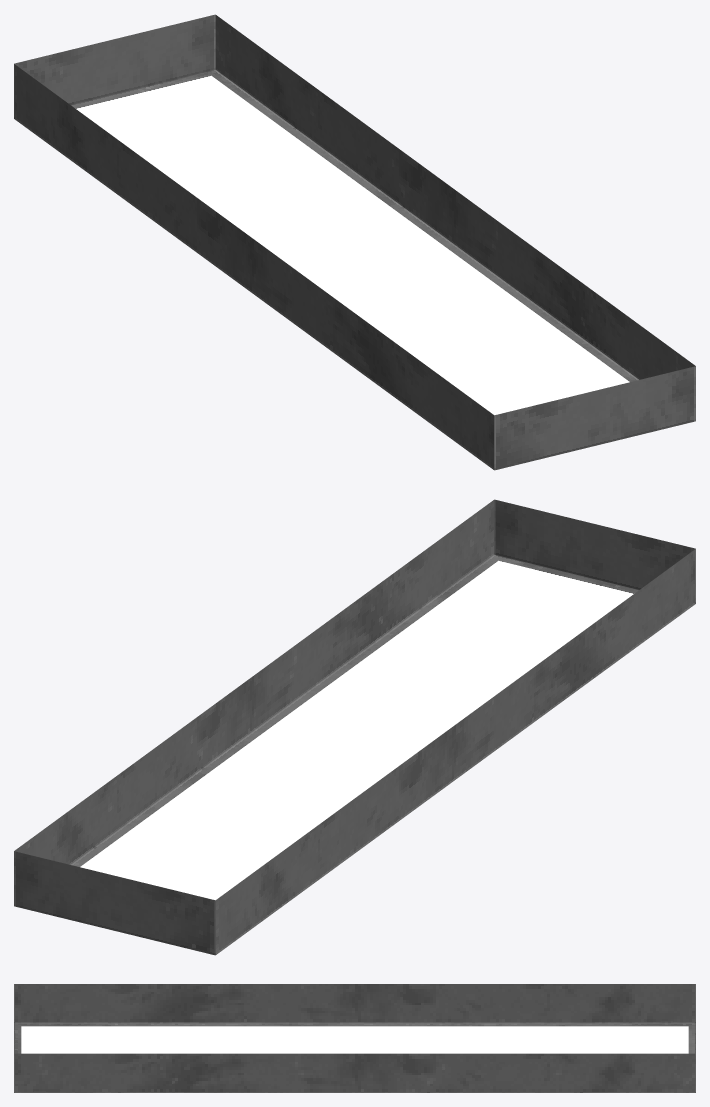
File: light_lrg.glb
The picture shows the model from 3 angles, top to bottom: view 1: azimuth 30°, elevation 25°; view 2: azimuth 150°, elevation 25°; view 3: azimuth 270°, elevation 25°; orthographic projection. The views are drawn at different scales.
Visible parts, largest first — view 1: light-big; view 2: light-big; view 3: light-big.
Boxes of the visible parts, <box> form: light-big: <box>14,14,695,470</box>; light-big: <box>14,499,695,955</box>; light-big: <box>14,984,695,1092</box>.
Size of the model in its own units: 0.661 by 0.1729 by 2.73.
Materials: 1 (1 with a texture image).
